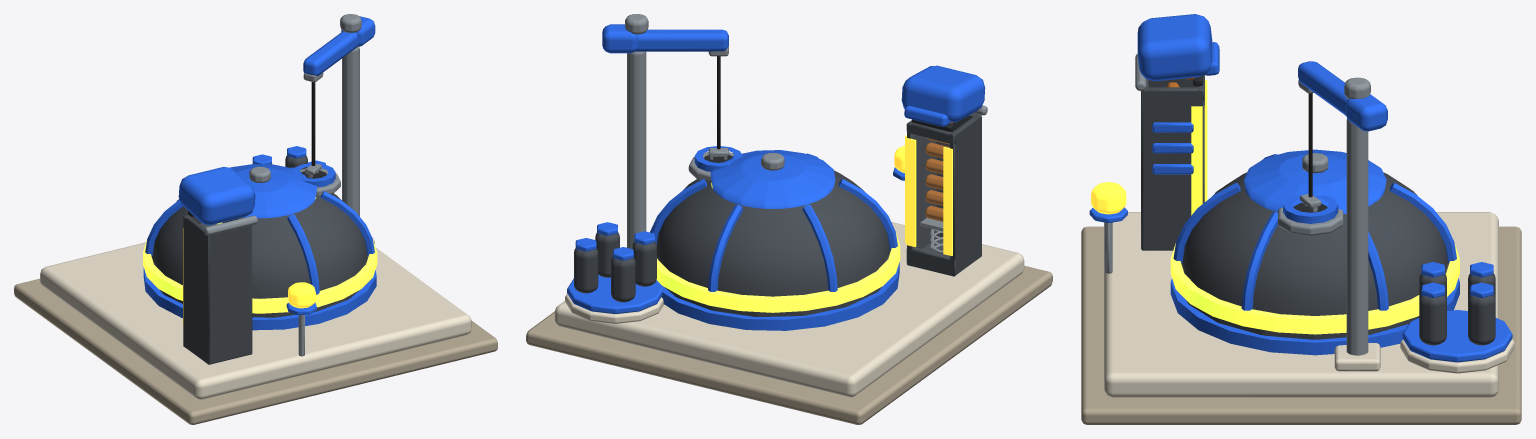
File: deep_mine_uranium.glb
The picture shows the model from 3 angles, left to right: view 1: azimuth 30°, elevation 25°; view 2: azimuth 150°, elevation 25°; view 3: azimuth 270°, elevation 25°; orthographic projection. The views are drawn at different scales.
Parts seen in each view (by area): view 1: stage_1__M_CreamPlastic, stage_2__M_SmokePlastic, stage_0__M_SugarPad, stage_2__M_SpringSteel, dm_head__M_Team, stage_3__M_Team, dm_glow__M_E_Acid, stage_2__M_Team, stage_1__M_Team, dm_jib__M_Team, dm_lamp__M_E_Amber, dm_head__M_SpringSteel (+3 smaller); view 2: stage_2__M_SmokePlastic, stage_1__M_CreamPlastic, stage_0__M_SugarPad, stage_3__M_Team, dm_glow__M_E_Acid, stage_2__M_SpringSteel, stage_2__M_Team, dm_head__M_Team, dm_carousel__M_SmokePlastic, stage_1__M_Team, stage_2__M_ClearGlass, dm_carousel__M_Team (+4 smaller); view 3: stage_1__M_CreamPlastic, stage_2__M_SmokePlastic, stage_0__M_SugarPad, stage_2__M_SpringSteel, stage_2__M_Team, dm_glow__M_E_Acid, stage_3__M_Team, dm_head__M_Team, dm_carousel__M_Team, stage_1__M_Team, dm_carousel__M_SmokePlastic, dm_jib__M_Team (+6 smaller).
Part boxes in pixels (x1=…): stage_1__M_CreamPlastic: x1=40, y1=237, x2=471, y2=399; stage_2__M_SmokePlastic: x1=152, y1=193, x2=367, y2=364; stage_0__M_SugarPad: x1=14, y1=278, x2=497, y2=424; stage_2__M_SpringSteel: x1=298, y1=46, x2=359, y2=356; dm_head__M_Team: x1=178, y1=167, x2=255, y2=225; stage_3__M_Team: x1=230, y1=164, x2=317, y2=218; dm_glow__M_E_Acid: x1=143, y1=240, x2=377, y2=313; stage_2__M_Team: x1=145, y1=163, x2=374, y2=294; stage_1__M_Team: x1=143, y1=267, x2=376, y2=330; dm_jib__M_Team: x1=303, y1=16, x2=375, y2=75; dm_lamp__M_E_Amber: x1=288, y1=282, x2=315, y2=308; dm_head__M_SpringSteel: x1=204, y1=215, x2=257, y2=235; stage_2__M_SmokePlastic: x1=657, y1=113, x2=981, y2=296; stage_1__M_CreamPlastic: x1=554, y1=222, x2=1024, y2=397; stage_0__M_SugarPad: x1=526, y1=266, x2=1052, y2=424; stage_3__M_Team: x1=710, y1=150, x2=835, y2=208; dm_glow__M_E_Acid: x1=656, y1=232, x2=900, y2=312; stage_2__M_SpringSteel: x1=627, y1=51, x2=734, y2=248; stage_2__M_Team: x1=650, y1=146, x2=897, y2=291; dm_head__M_Team: x1=901, y1=65, x2=985, y2=126; dm_carousel__M_SmokePlastic: x1=574, y1=232, x2=656, y2=302; stage_1__M_Team: x1=661, y1=262, x2=899, y2=330; stage_2__M_ClearGlass: x1=913, y1=135, x2=948, y2=256; dm_carousel__M_Team: x1=567, y1=222, x2=663, y2=313; stage_1__M_CreamPlastic: x1=1104, y1=212, x2=1514, y2=397; stage_2__M_SmokePlastic: x1=1141, y1=75, x2=1447, y2=315; stage_0__M_SugarPad: x1=1081, y1=226, x2=1521, y2=424; stage_2__M_SpringSteel: x1=1104, y1=118, x2=1368, y2=355; stage_2__M_Team: x1=1152, y1=122, x2=1456, y2=310; dm_glow__M_E_Acid: x1=1170, y1=243, x2=1459, y2=334; stage_3__M_Team: x1=1244, y1=149, x2=1386, y2=214; dm_head__M_Team: x1=1137, y1=14, x2=1219, y2=81; dm_carousel__M_Team: x1=1402, y1=262, x2=1512, y2=362; stage_1__M_Team: x1=1170, y1=278, x2=1459, y2=355; dm_carousel__M_SmokePlastic: x1=1419, y1=273, x2=1495, y2=345; dm_jib__M_Team: x1=1298, y1=61, x2=1387, y2=131.
Size of the model in its own units: 1.92 by 1.56 by 1.92.
